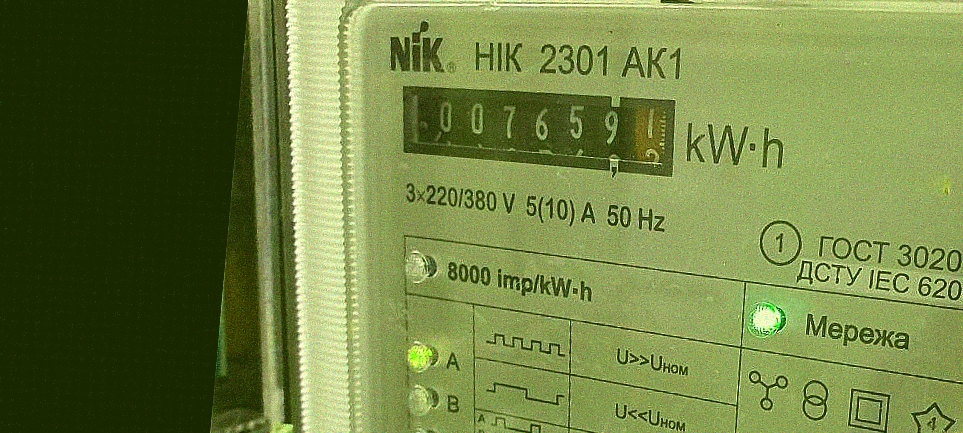0: (465, 97, 488, 139), (434, 96, 457, 136)
1: (638, 103, 660, 142)
5: (563, 101, 588, 143)
6: (528, 102, 554, 145)
7: (496, 100, 521, 141)
9: (598, 106, 623, 148)
screen: (386, 70, 685, 187)
